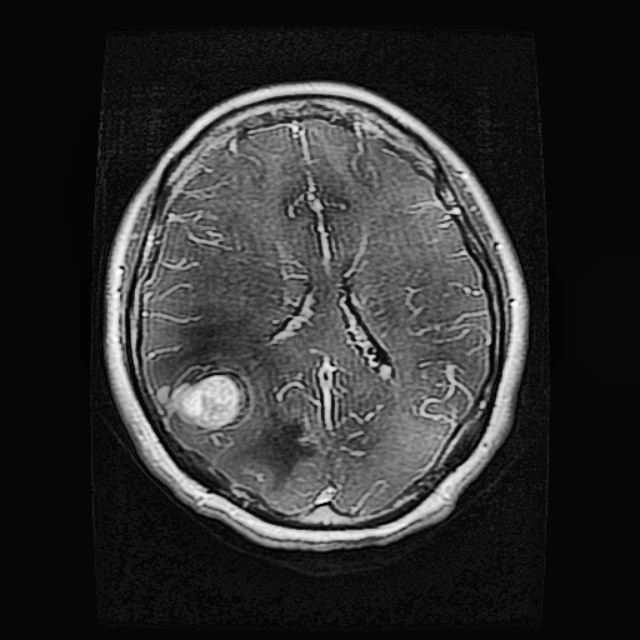Pituitary: (155, 372, 255, 432)
